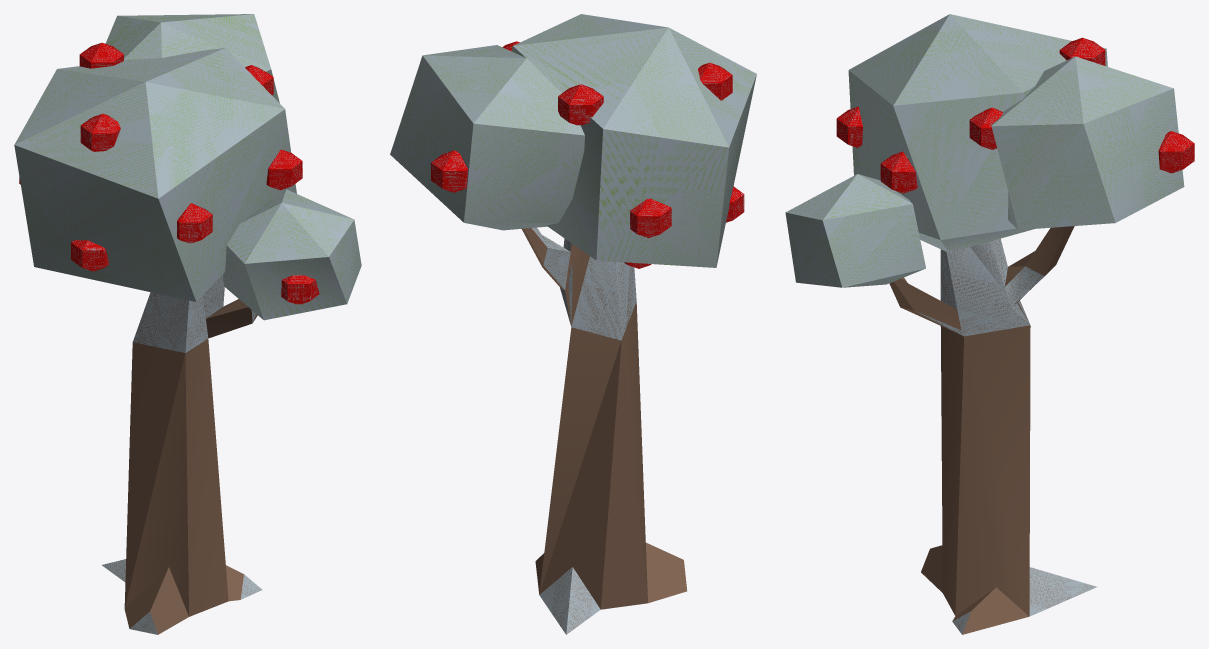
The model's file is Tree_Apple_01.fbx.
3 views of the same model, side by side, from view 1: azimuth 30°, elevation 25°; view 2: azimuth 150°, elevation 25°; view 3: azimuth 270°, elevation 25° (orthographic). The views are drawn at different scales.
Parts seen in each view (by area): view 1: Model; view 2: Model; view 3: Model.
Boxes of the visible parts, bbox=[...] form: Model: bbox=[14, 14, 361, 634]; Model: bbox=[390, 14, 756, 634]; Model: bbox=[785, 14, 1194, 634].
Bounding box in the file's own units: 325 × 593 × 393.
